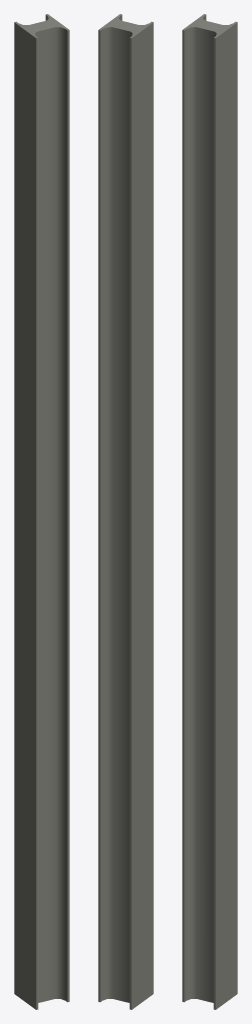
Rendered from metal_rod_rect.fbx.
3 views of the same model, side by side, from view 1: azimuth 30°, elevation 25°; view 2: azimuth 150°, elevation 25°; view 3: azimuth 330°, elevation 25° (orthographic).
Parts seen in each view (by area): view 1: metal_rod_rect; view 2: metal_rod_rect; view 3: metal_rod_rect.
Part boxes in pixels (left/top/right/bottom): metal_rod_rect: left=14, top=14, right=69, bottom=1009; metal_rod_rect: left=98, top=14, right=153, bottom=1009; metal_rod_rect: left=182, top=14, right=237, bottom=1009.
Bounding box in the file's own units: 9.63 × 266 × 10.9.
